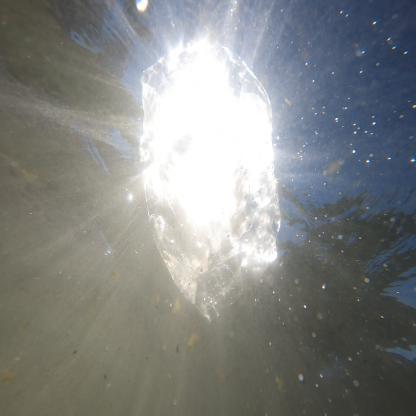Rác: (129, 41, 306, 311)
